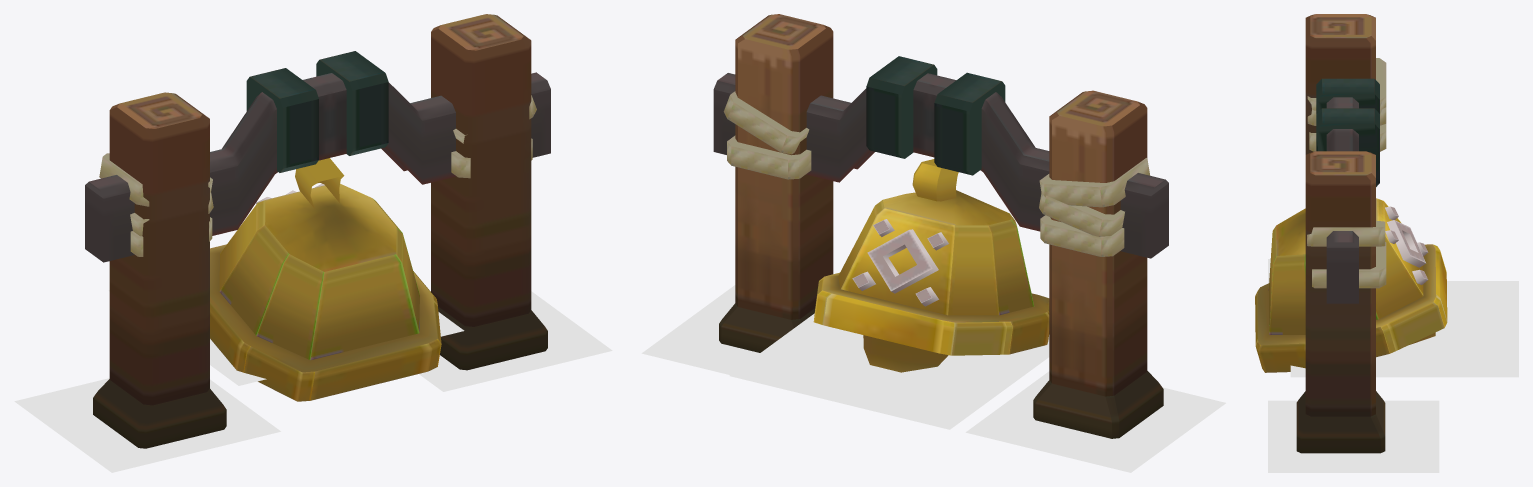
File: [gimmick]bell_yellow.fbx
The picture shows the model from 3 angles, left to right: view 1: azimuth 30°, elevation 25°; view 2: azimuth 150°, elevation 25°; view 3: azimuth 270°, elevation 25°; orthographic projection. The views are drawn at different scales.
Parts seen in each view (by area): view 1: [gimmick]bell_yellow, bell_yellow, shadow2, shadow1, shadow; view 2: [gimmick]bell_yellow, bell_yellow, shadow, shadow2, shadow1; view 3: [gimmick]bell_yellow, bell_yellow, shadow, shadow1.
Boxes of the visible parts, left/top/right/bottom form: [gimmick]bell_yellow: left=85, top=14, right=550, bottom=448; bell_yellow: left=210, top=158, right=441, bottom=401; shadow2: left=14, top=378, right=280, bottom=472; shadow1: left=419, top=291, right=612, bottom=391; shadow: left=108, top=290, right=464, bottom=385; [gimmick]bell_yellow: left=713, top=14, right=1168, bottom=438; bell_yellow: left=813, top=159, right=1049, bottom=372; shadow: left=729, top=313, right=1049, bottom=429; shadow2: left=965, top=371, right=1225, bottom=472; shadow1: left=641, top=285, right=759, bottom=374; [gimmick]bell_yellow: left=1296, top=14, right=1386, bottom=453; bell_yellow: left=1255, top=198, right=1447, bottom=372; shadow: left=1290, top=281, right=1518, bottom=377; shadow1: left=1268, top=400, right=1439, bottom=472.
Size of the model in its own units: 2.66 by 1.59 by 1.39.
2 materials, 2 textured.
